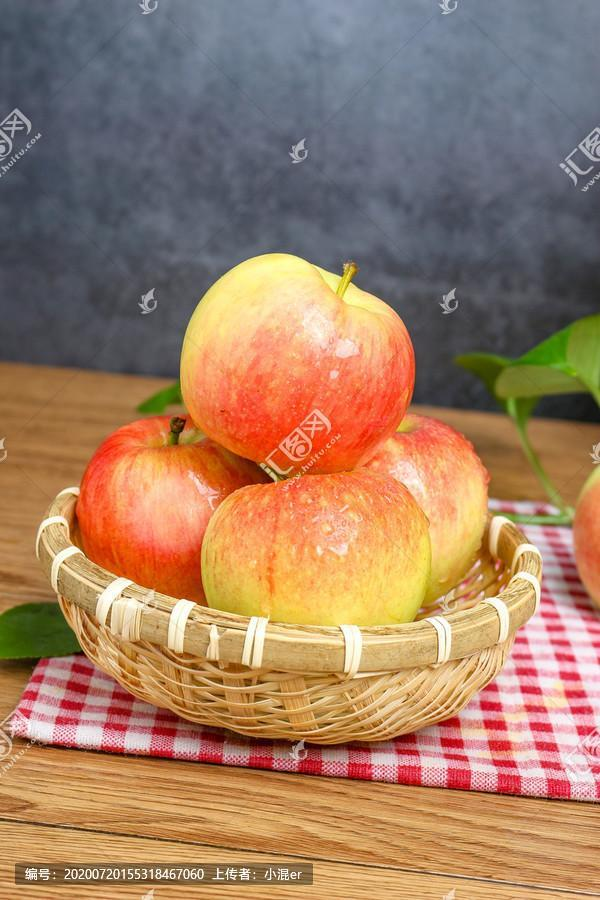apple: (180, 244, 417, 469), (196, 470, 434, 631), (70, 413, 270, 595)
